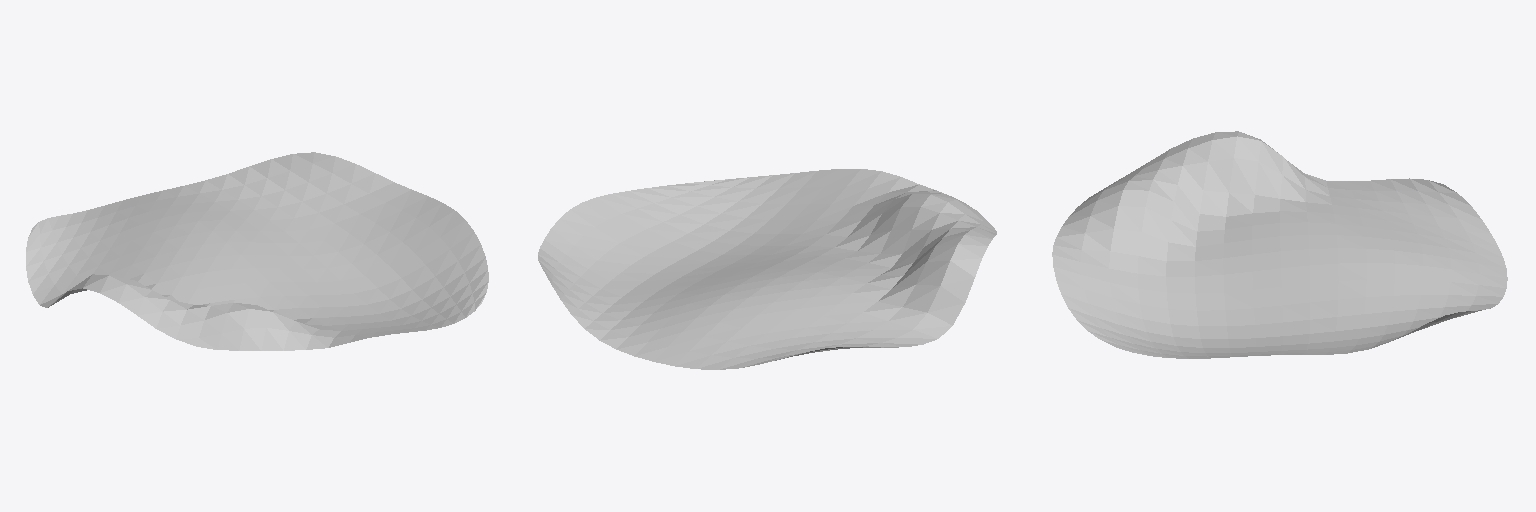
Rendered from hills_test.obj.
The picture shows the model from 3 angles: view 1: azimuth 30°, elevation 25°; view 2: azimuth 150°, elevation 25°; view 3: azimuth 270°, elevation 25°; orthographic projection.
Parts seen in each view (by area): view 1: Plane; view 2: Plane; view 3: Plane.
Boxes of the visible parts, x1,y1,x2,y2 form: Plane: [26, 152, 488, 350]; Plane: [538, 169, 996, 369]; Plane: [1052, 131, 1507, 358].
Bounding box in the file's own units: 13.72 × 2.46 × 13.62.